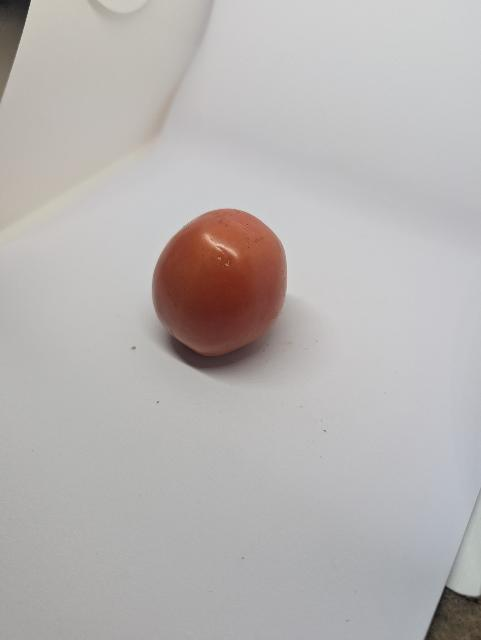red: (151, 208, 289, 358)
